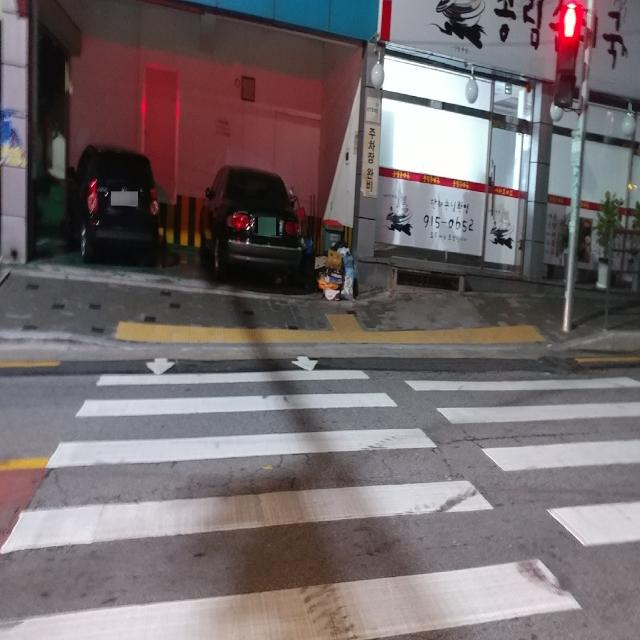빨간불: (553, 1, 583, 111)
횡단보도: (0, 354, 640, 640)
